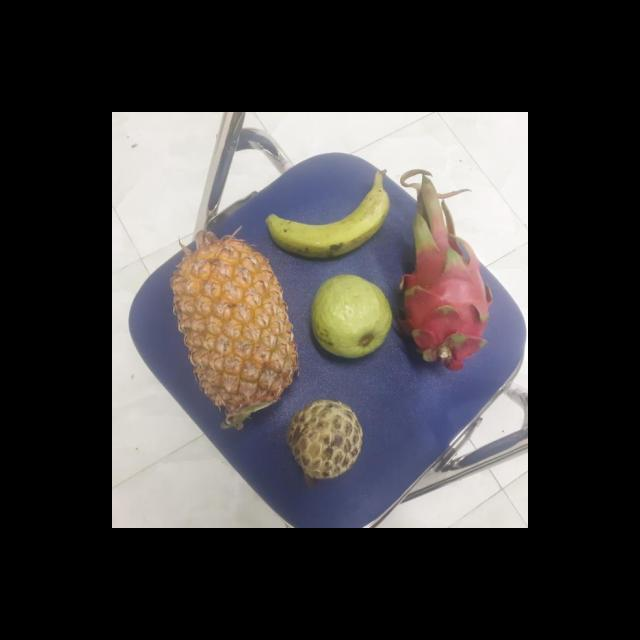Sakya fruit: (283, 398, 363, 481)
banana: (263, 176, 385, 260)
guava: (306, 276, 392, 358)
pineapple: (169, 242, 296, 424)
pitaya: (392, 228, 490, 366)
